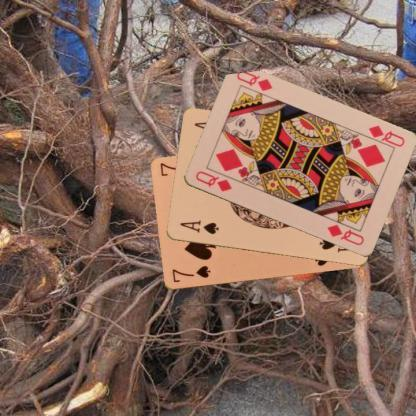7s: (169, 264, 212, 284)
As: (177, 218, 221, 236)
Qd: (360, 122, 406, 150), (192, 168, 233, 194)
